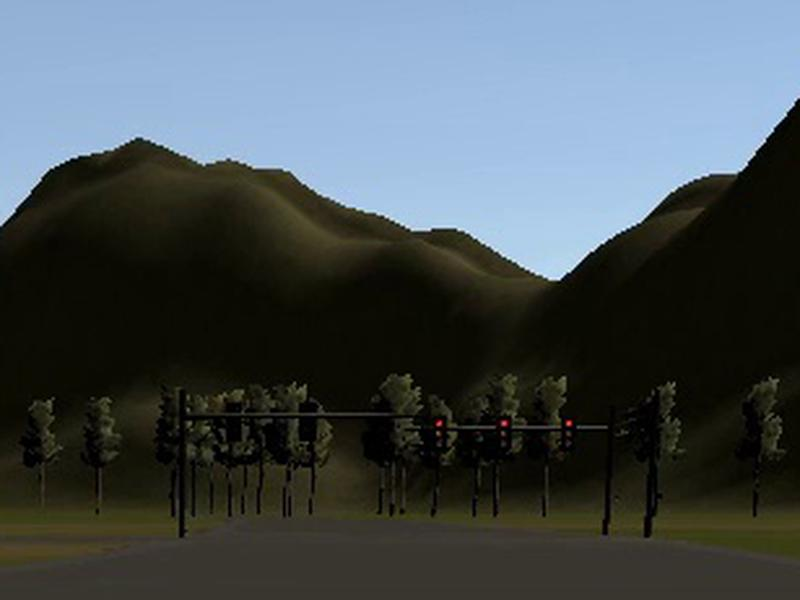Red: (497, 415, 511, 450), (562, 416, 575, 452), (433, 414, 446, 449)
